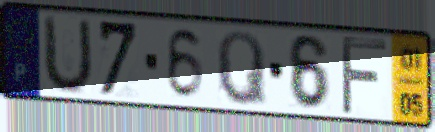6: (285, 32, 334, 113), (164, 26, 206, 102)
7: (96, 17, 140, 98)
F: (338, 33, 390, 118)
Q: (214, 28, 270, 109)
U: (41, 13, 96, 97)
